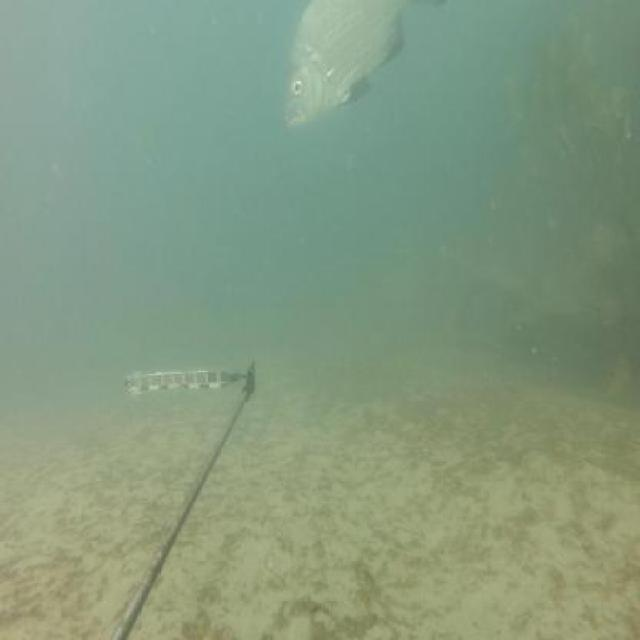acanthopagrus_palmaris: (281, 2, 416, 138)
